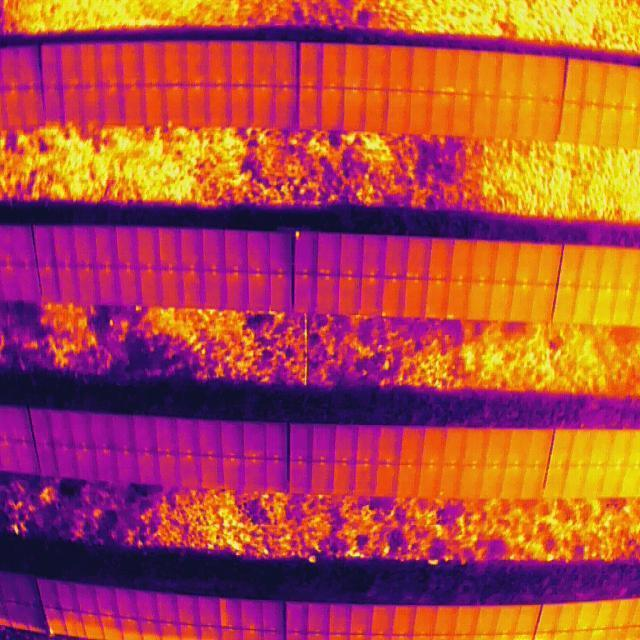panel: (512, 240, 545, 287), (247, 39, 278, 89), (270, 39, 301, 89), (138, 38, 168, 89), (386, 43, 416, 94), (408, 44, 438, 95), (430, 45, 460, 96), (452, 46, 482, 97), (475, 47, 505, 98), (5, 222, 38, 268), (491, 239, 524, 285), (497, 50, 527, 100), (537, 54, 568, 102), (468, 238, 501, 283), (574, 244, 607, 289), (595, 245, 628, 290), (533, 98, 565, 144), (116, 40, 146, 89), (159, 39, 189, 88), (182, 38, 212, 87), (204, 39, 234, 88), (226, 39, 256, 88), (295, 40, 325, 89), (318, 41, 348, 90), (339, 42, 369, 91), (363, 43, 393, 92), (403, 235, 434, 282), (425, 235, 456, 282), (448, 236, 478, 283), (534, 240, 564, 287), (511, 98, 543, 142), (569, 284, 601, 328), (442, 279, 474, 323), (518, 51, 546, 101), (93, 40, 122, 88), (292, 228, 321, 276), (337, 230, 366, 278), (359, 231, 388, 279), (12, 42, 42, 88), (381, 233, 411, 279), (556, 242, 586, 288), (562, 56, 590, 105), (582, 58, 610, 107), (315, 229, 343, 278), (55, 41, 84, 88), (74, 41, 103, 88), (316, 86, 345, 133), (2, 403, 35, 444), (470, 93, 498, 141), (200, 225, 228, 273), (221, 226, 249, 274), (244, 227, 272, 275), (266, 228, 294, 276), (482, 426, 514, 468), (567, 426, 599, 468), (448, 93, 477, 139), (463, 280, 494, 323), (418, 424, 449, 467), (9, 438, 43, 477), (17, 85, 47, 129), (397, 423, 427, 467), (384, 90, 412, 137), (362, 88, 390, 135), (272, 85, 300, 132), (249, 84, 277, 131), (227, 84, 255, 131), (460, 426, 492, 467), (576, 102, 605, 147), (492, 96, 521, 141), (589, 286, 620, 328), (486, 281, 517, 323), (439, 425, 470, 467), (504, 426, 535, 468), (524, 425, 555, 467), (156, 224, 183, 272), (178, 225, 205, 273), (97, 85, 127, 128), (507, 282, 537, 325), (422, 278, 452, 321), (428, 92, 456, 138), (406, 91, 434, 137), (92, 223, 120, 269), (113, 223, 141, 269), (134, 225, 162, 271), (556, 100, 585, 144), (119, 84, 148, 128), (309, 420, 338, 464), (45, 407, 76, 448), (587, 427, 618, 468), (604, 427, 635, 468), (602, 62, 629, 109), (203, 84, 231, 129), (50, 223, 78, 268), (70, 223, 98, 268), (67, 408, 97, 450), (374, 424, 404, 466), (550, 284, 579, 327), (353, 422, 382, 465), (548, 426, 577, 469), (597, 104, 624, 150), (340, 88, 367, 134), (31, 222, 58, 268), (13, 264, 44, 304), (39, 41, 64, 90), (297, 86, 323, 133), (597, 463, 630, 500), (528, 283, 557, 325), (184, 84, 211, 129), (162, 83, 189, 128), (142, 85, 169, 130), (267, 271, 295, 314), (246, 271, 274, 314), (222, 269, 250, 312), (201, 269, 229, 312), (177, 267, 205, 310), (155, 266, 183, 309), (240, 418, 268, 461), (262, 420, 290, 463), (332, 421, 360, 464), (610, 287, 639, 328), (402, 277, 429, 321), (379, 277, 406, 321), (359, 275, 386, 319), (336, 275, 363, 319), (315, 273, 342, 317), (291, 272, 318, 316), (287, 419, 314, 463), (497, 464, 528, 502), (477, 464, 508, 502), (27, 405, 55, 447), (152, 413, 180, 455), (173, 415, 201, 457), (195, 416, 223, 458), (217, 417, 245, 459), (79, 84, 106, 127), (59, 85, 86, 128), (559, 464, 591, 500), (1, 86, 26, 132), (51, 444, 81, 482), (136, 266, 163, 308), (115, 265, 142, 307), (94, 265, 121, 307), (74, 265, 101, 307), (457, 463, 486, 502), (471, 603, 504, 637), (571, 600, 604, 634), (87, 411, 115, 451), (10, 571, 42, 606), (579, 464, 609, 501), (540, 465, 570, 502), (518, 465, 548, 502), (130, 413, 157, 454), (134, 450, 163, 488), (114, 449, 143, 487), (33, 441, 62, 479), (372, 462, 400, 501), (591, 597, 623, 631), (20, 602, 52, 636), (55, 265, 82, 305), (109, 412, 136, 452), (615, 106, 640, 149), (40, 86, 66, 127), (451, 603, 482, 637), (492, 602, 523, 636), (512, 603, 543, 637), (534, 601, 565, 635), (553, 600, 584, 634), (436, 464, 463, 503), (415, 463, 442, 502), (610, 595, 640, 630), (37, 265, 63, 305), (394, 463, 422, 500), (220, 456, 248, 493), (198, 454, 226, 491), (176, 452, 204, 489), (156, 452, 184, 489), (287, 459, 314, 497), (410, 603, 440, 637), (431, 603, 461, 637), (304, 600, 332, 636), (326, 600, 354, 636), (347, 601, 375, 637), (34, 576, 63, 610), (389, 603, 418, 637), (72, 581, 100, 616), (93, 583, 121, 618), (114, 585, 142, 620), (133, 588, 161, 623), (154, 590, 182, 625), (283, 599, 311, 634), (368, 602, 396, 637), (352, 462, 379, 498), (328, 461, 355, 497), (309, 460, 336, 496), (264, 457, 291, 493), (242, 457, 269, 493), (175, 591, 202, 627), (94, 447, 120, 484), (72, 446, 98, 483), (54, 578, 81, 613), (238, 597, 265, 632), (259, 598, 285, 633), (1, 601, 30, 632), (196, 594, 222, 628), (217, 595, 243, 629), (42, 606, 70, 637), (60, 608, 88, 639), (78, 611, 107, 640), (99, 614, 126, 640)
